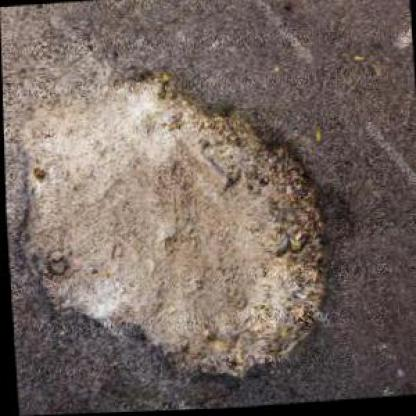pothole: (1, 41, 365, 400)
